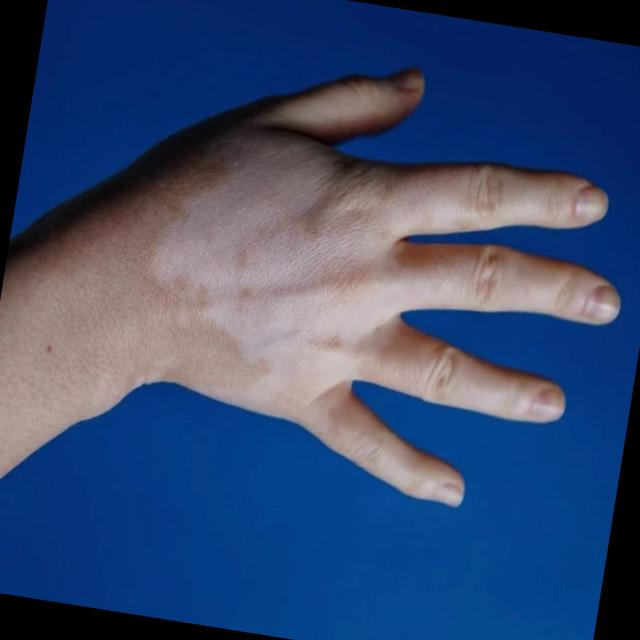Nail: (566, 187, 608, 225), (579, 286, 619, 323), (528, 389, 563, 423), (386, 69, 423, 95), (430, 482, 463, 506)
